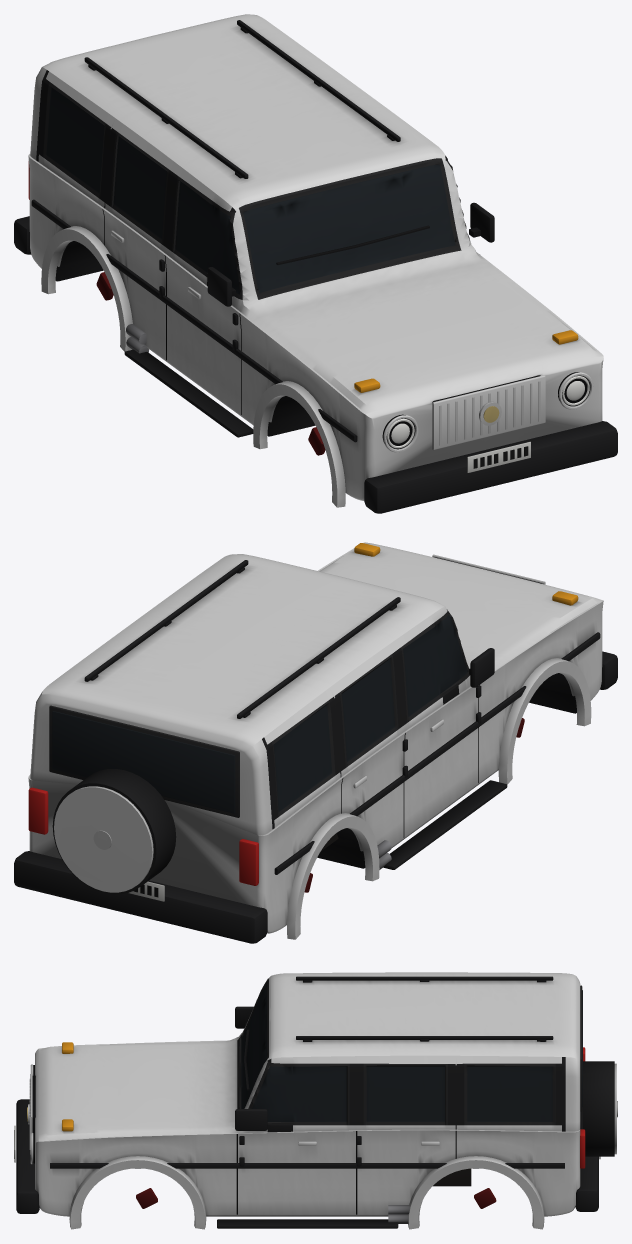
Rendered from gajraj.glb.
3 views of the same model, one above another, from view 1: azimuth 30°, elevation 25°; view 2: azimuth 150°, elevation 25°; view 3: azimuth 270°, elevation 25° (orthographic). The views are drawn at different scales.
Parts seen in each view (by area): view 1: gajraj; view 2: gajraj; view 3: gajraj.
Part boxes in pixels (x1,y1,x2,y2): gajraj: (14, 14, 617, 513); gajraj: (14, 542, 617, 943); gajraj: (14, 972, 617, 1229).
Bounding box in the file's own units: 2.13 × 1.64 × 5.16.
